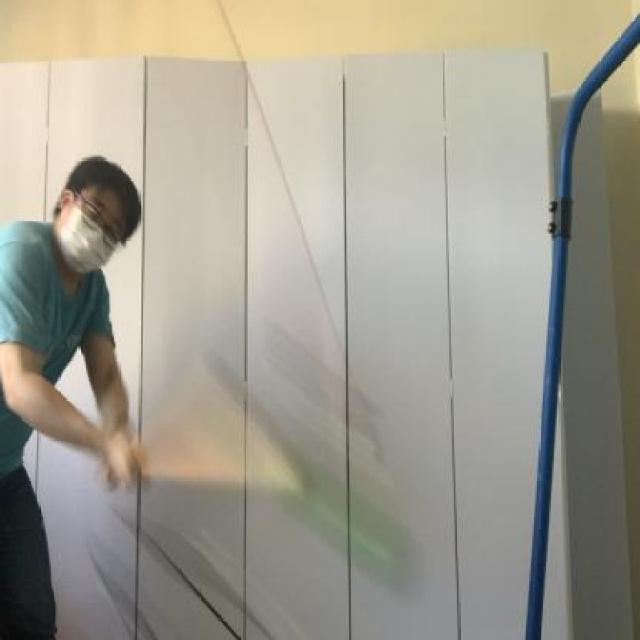baseball: (276, 451, 424, 602)
